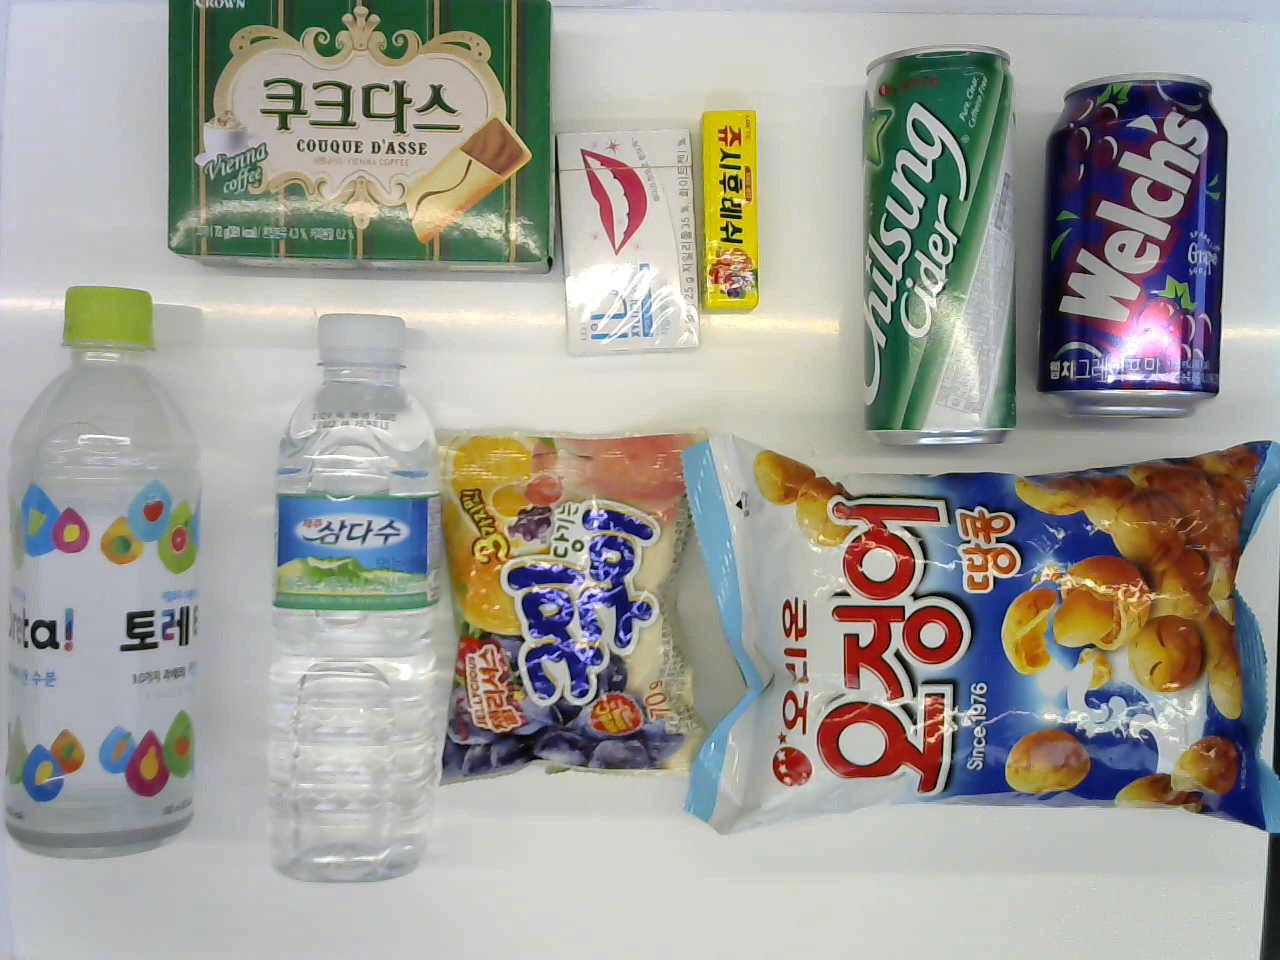ID_gum: (559, 128, 701, 363)
cidar: (849, 45, 1010, 443)
couque_coffee: (165, 1, 554, 273)
gumi_gumi: (445, 423, 694, 798)
juicyfresh: (694, 110, 765, 318)
samdasu: (0, 287, 211, 856), (271, 305, 439, 891)
squid_peanut: (685, 436, 1278, 835)
toreta: (0, 287, 211, 856)
welchs: (1036, 81, 1242, 410)
